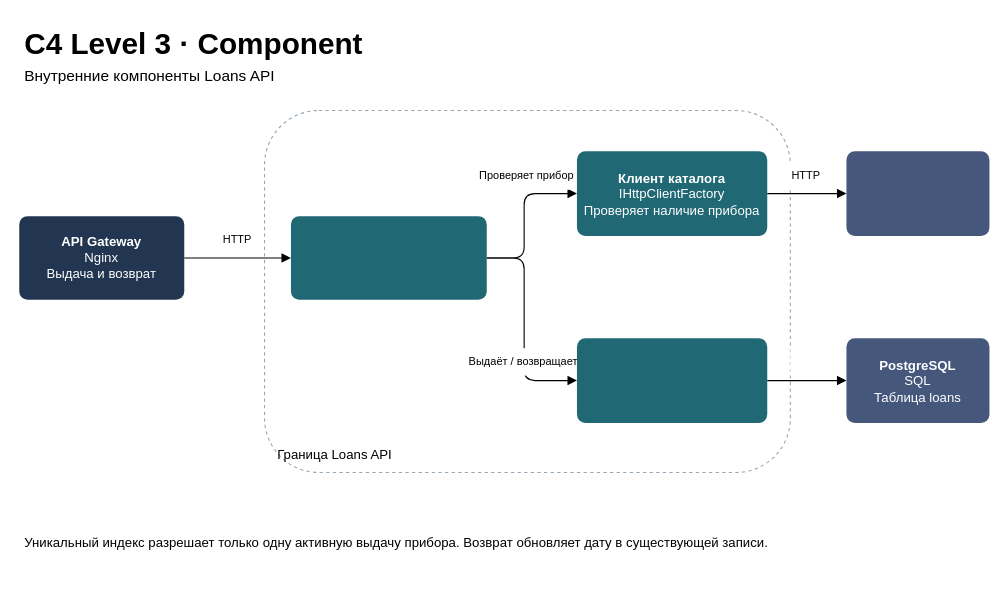
The diagram is 1008 pixels wide and 590 high, and some of its shapes have lost their labels. Each missing label, with the box of its shape:
Catalog API HTTP Данные прибора: (846, 151, 989, 235)
LoanStore Npgsql Чтение и запись выдач: (576, 338, 767, 422)
SQL: (790, 348, 821, 375)
Обработчики /loans Program.cs Проверка входных данных: (290, 216, 486, 299)
